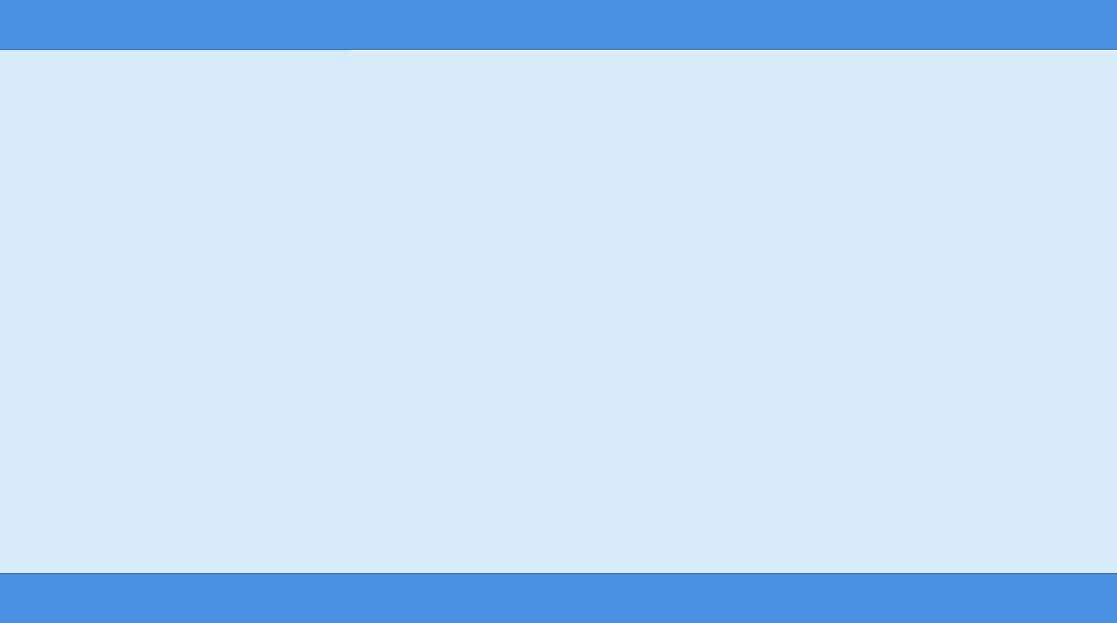

The page's visual inventory and layout, read from the dashboard file:
{"tool":"powerbi","page":{"name":"Accueil","canvas":[1280,720],"ordinal":0},"visuals":[{"type":"image","box":[939.1,683.6,77,36.7],"z":0},{"type":"textbox","box":[373,667.7,617.5,52.6],"z":1000},{"type":"image","box":[0,66,1280.3,538],"z":2000},{"type":"actionButton","box":[0,33,1280.3,650.5],"z":3000},{"type":"shape","box":[941.6,305.7,149.2,111.3],"z":4000}]}

Visuals, with their boxes in screenshot pixels (x1, y1, x2, y2), scaled from the page's 1280x720 canvas onto the 1117x623 screenshot:
image: 820, 592, 887, 622
textbox: 326, 578, 864, 622
image: 0, 57, 1116, 523
actionButton: 0, 29, 1116, 591
shape: 822, 265, 952, 361
